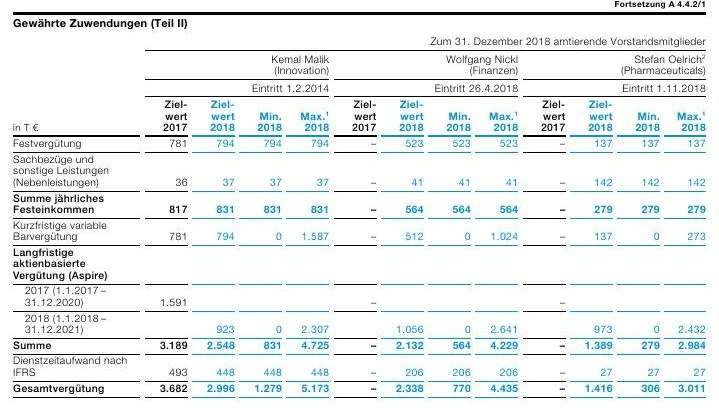table: (0, 0, 719, 408)
